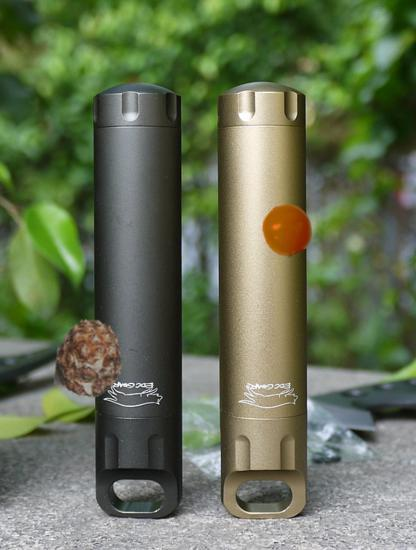Physalis: (262, 204, 313, 255)
Pineapple: (49, 318, 130, 399)
